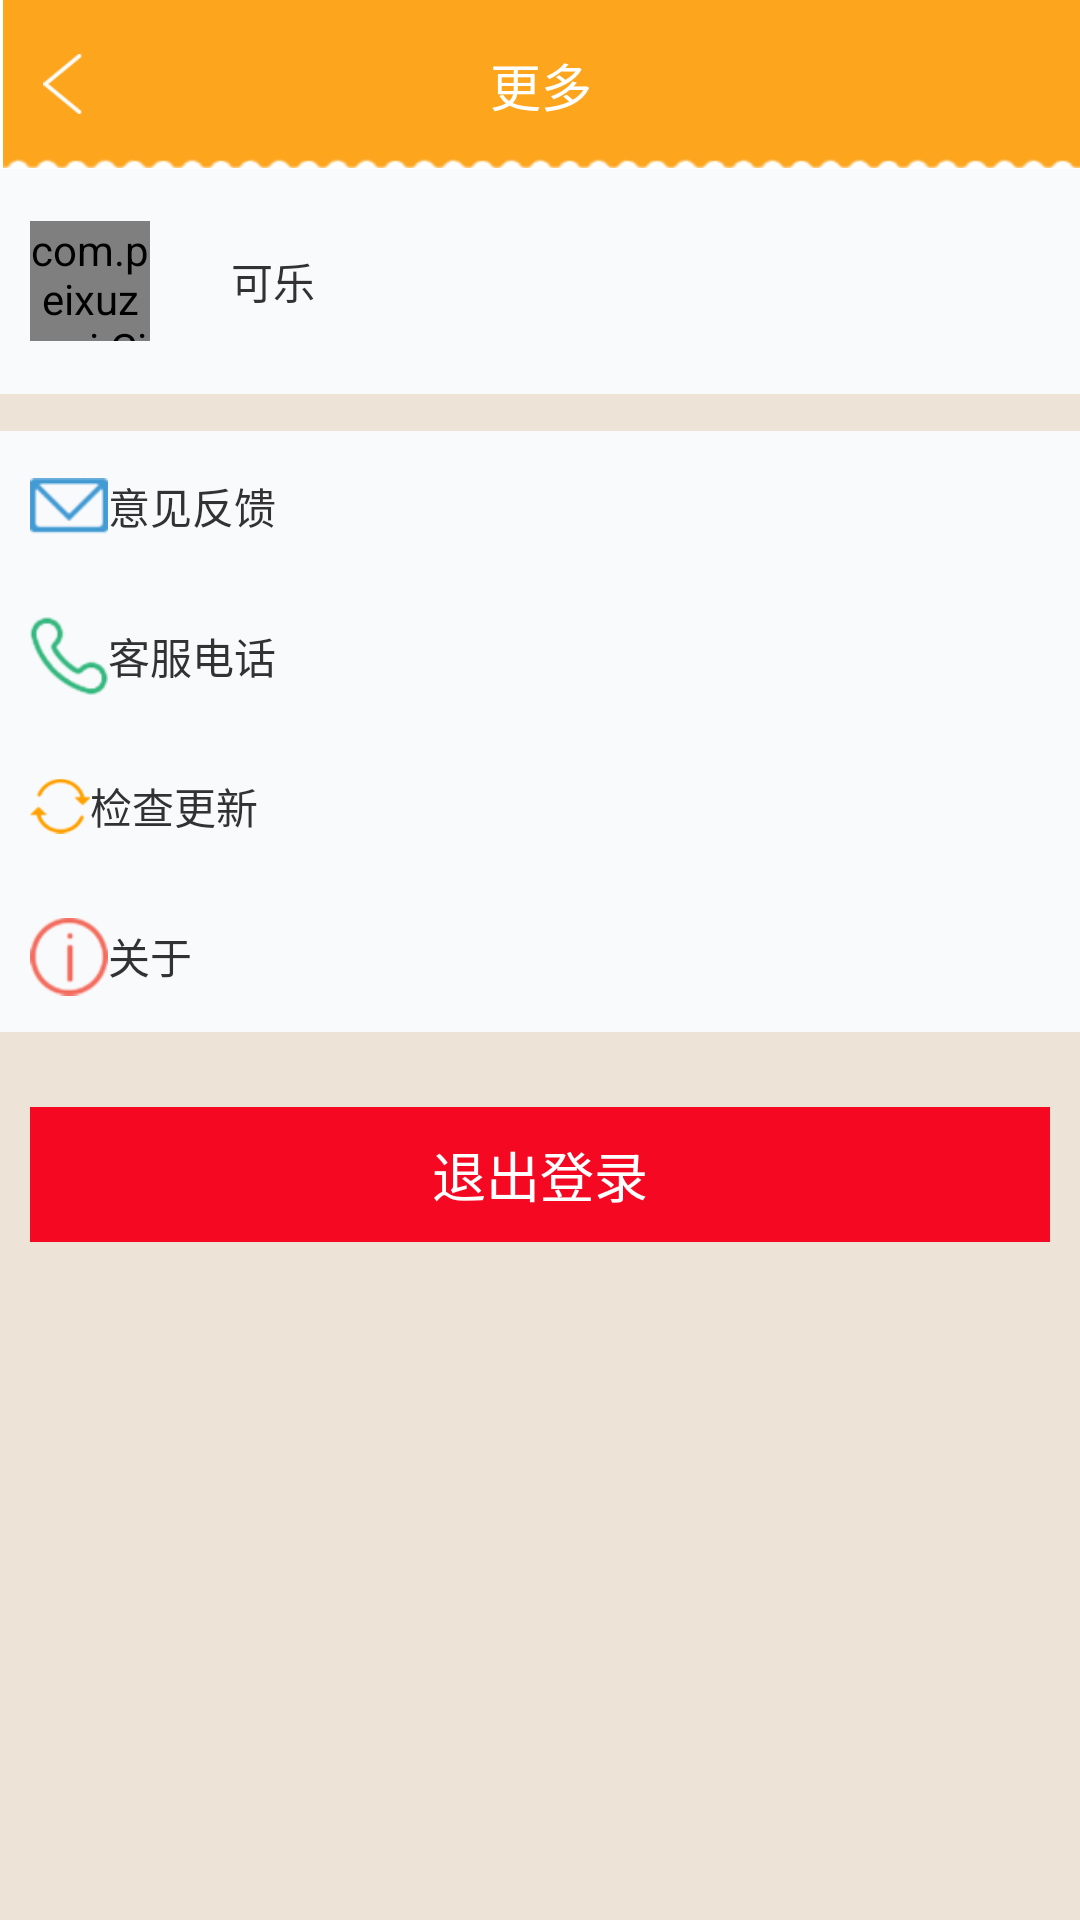

Icons on this 1080×1920 Android screen, each with its box as [x1, y1, x2, y2]:
imageview arrow back: [43, 54, 82, 114]
